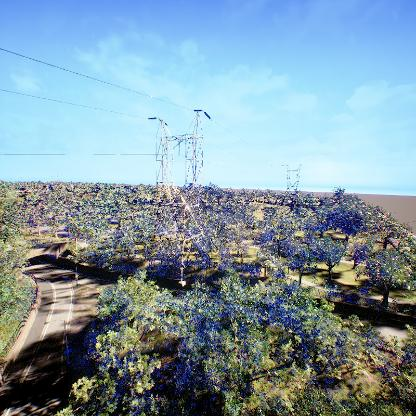tower: (145, 105, 213, 284), (282, 163, 303, 195)
